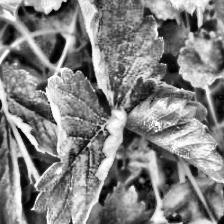Powdery Mildew Leaf: (30, 67, 127, 224), (71, 0, 167, 118), (124, 74, 224, 182), (0, 60, 60, 160), (0, 105, 32, 224)
